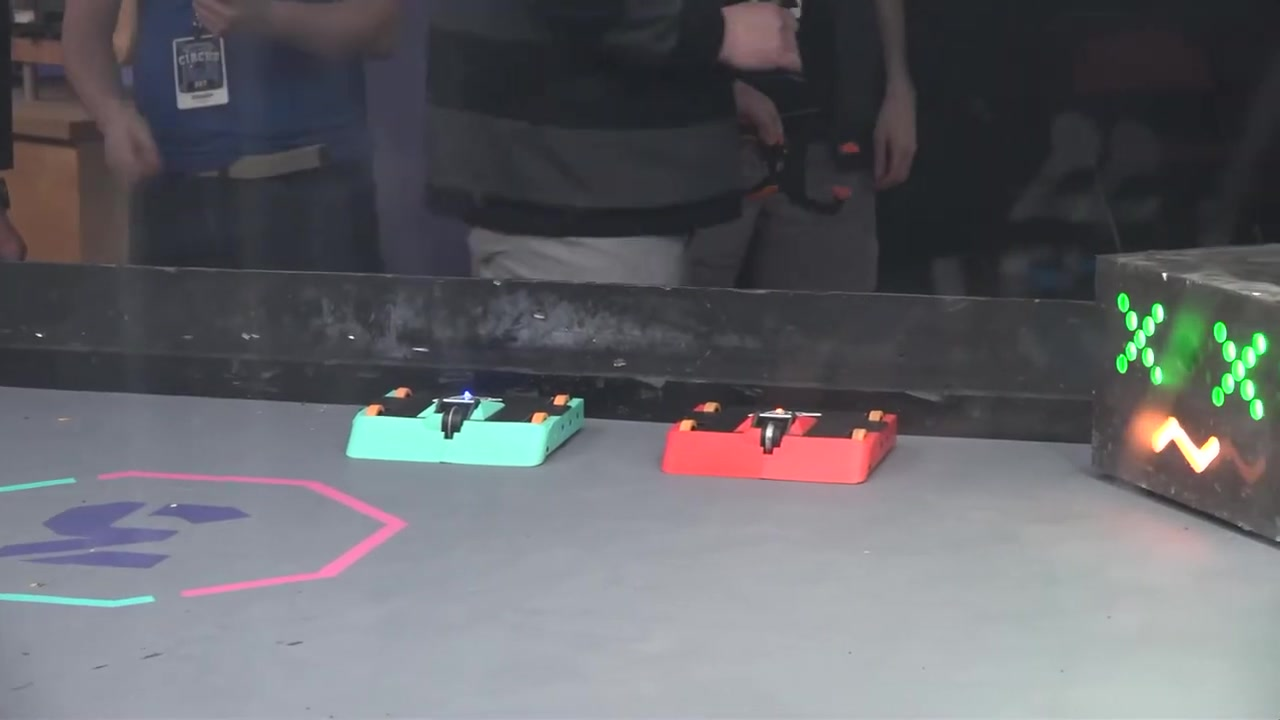combatbot: (348, 386, 589, 469), (658, 403, 904, 484)
housebot: (1084, 241, 1280, 562)
